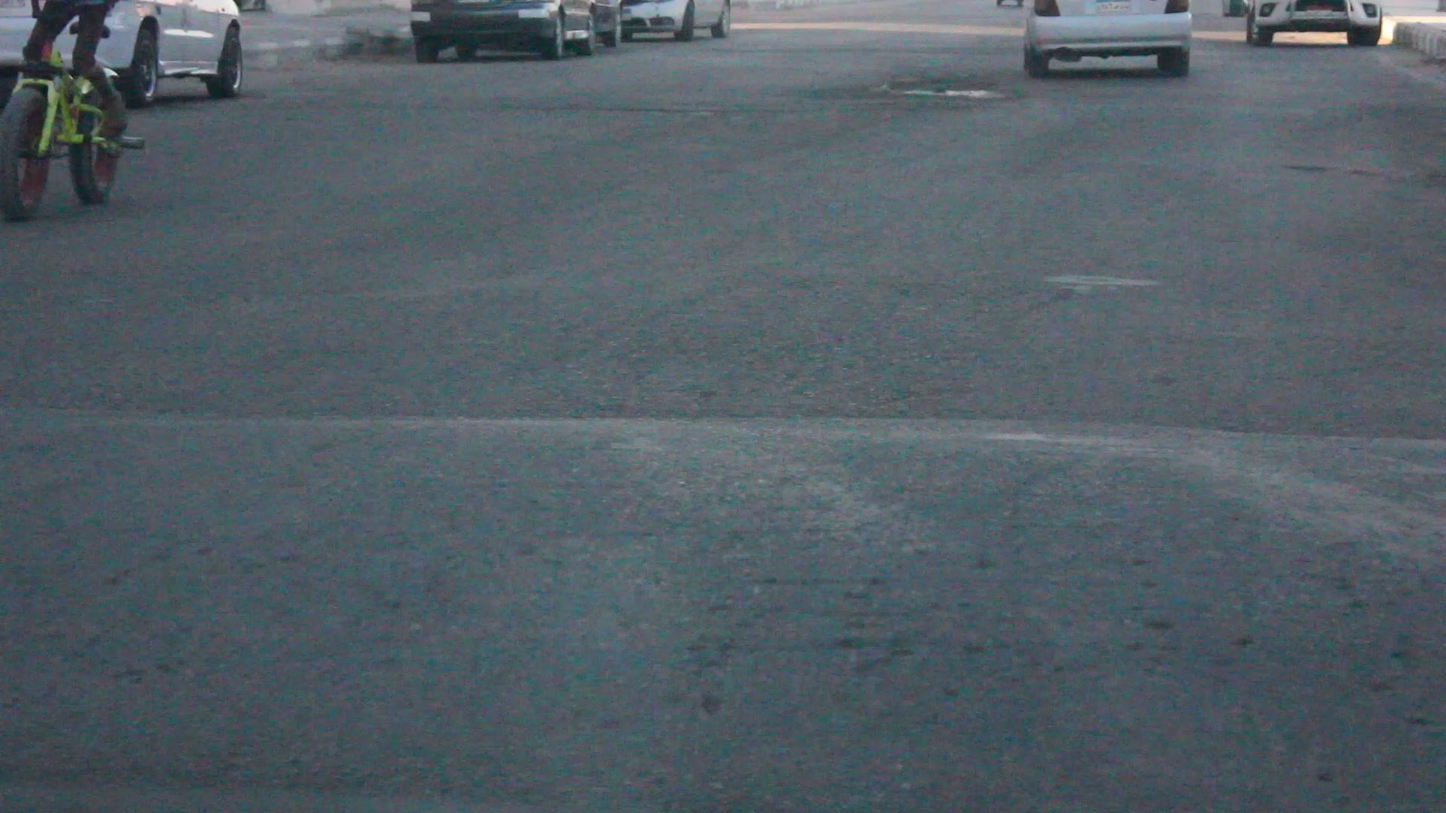Bump: (0, 412, 1446, 696)
